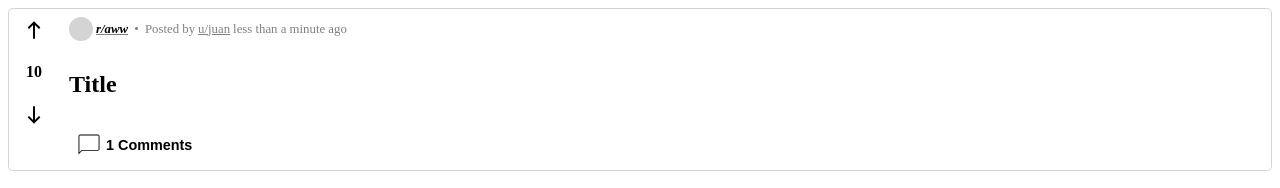
Post previews › Pressing upvote twice removes previous vote
The width and height of the screenshot is (1280, 188).
Click the 1st button with test id "icon-link". click: (34,30)
box: [18, 19, 50, 41]
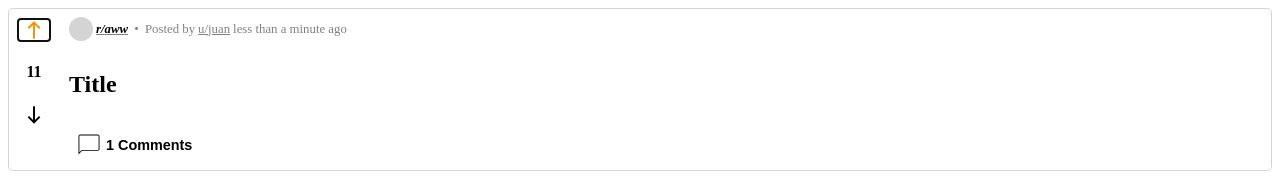
Click the 1st button with test id "icon-link". click: (34,30)
box: [18, 19, 50, 41]
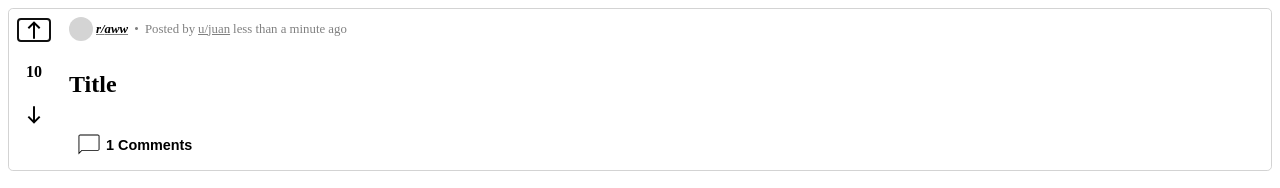
Check: the text with test id "votes-display" reads "10", box [26, 63, 42, 80]
